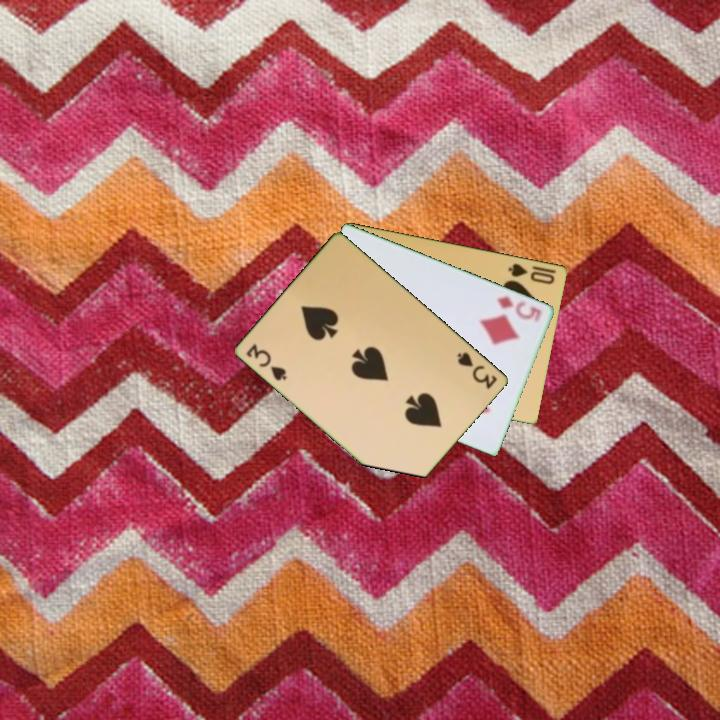10s: (505, 259, 558, 287)
3s: (454, 348, 501, 392), (243, 340, 290, 384)
5d: (493, 292, 545, 324)
